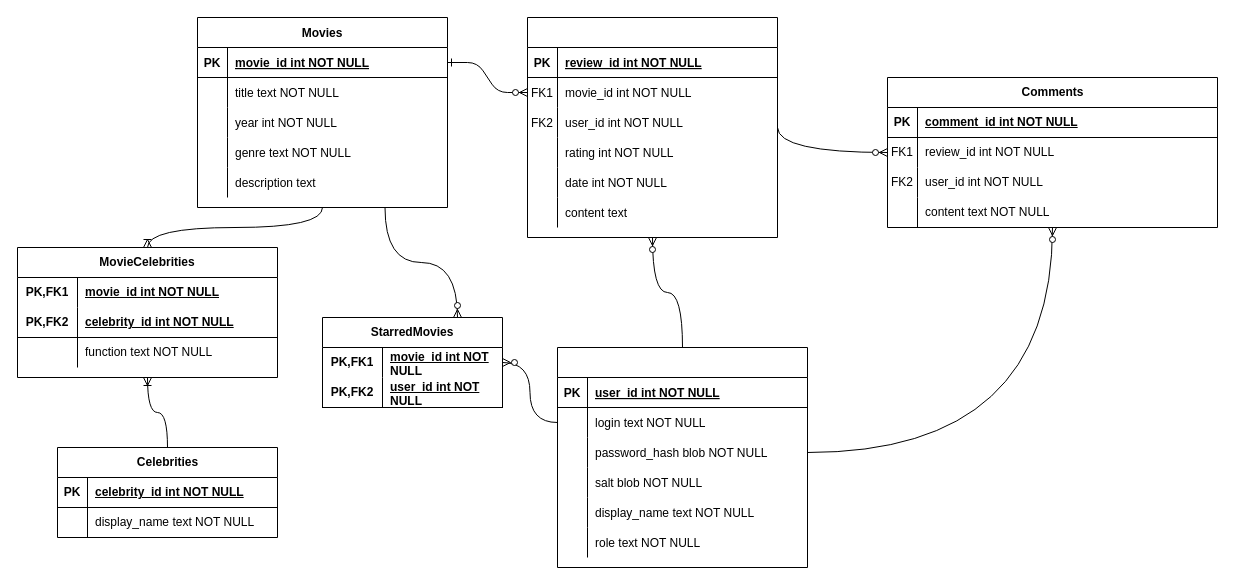
Image size: 1235x585. Some labels were removed from this diagram. The box of each missing label's shape, as (x1, y1, x2, y2) in pixels:
Reviews: (526, 16, 778, 238)
Users: (556, 346, 808, 568)
